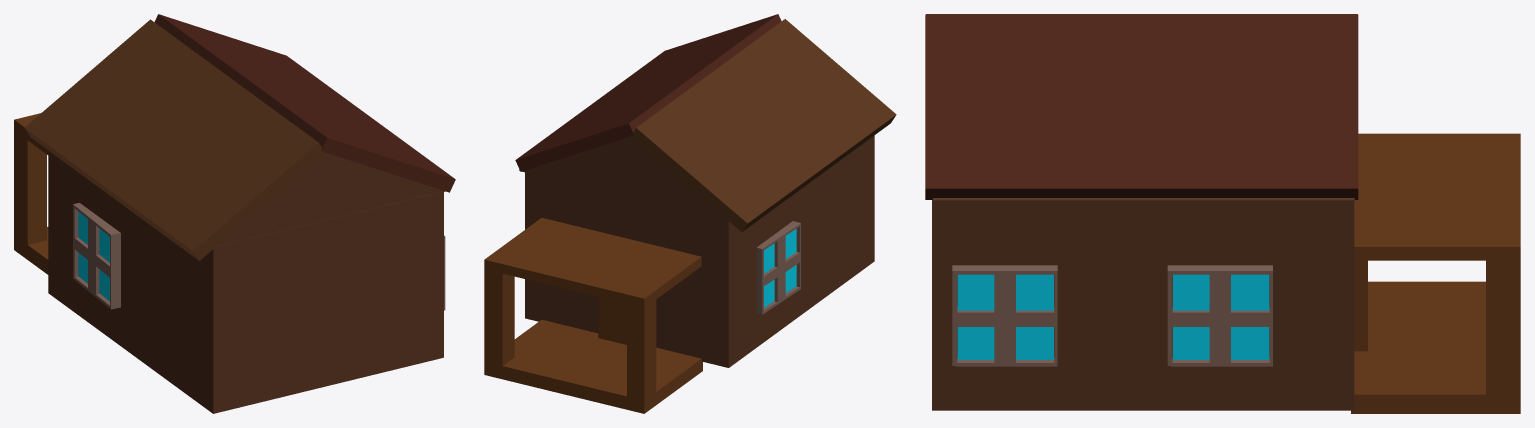
Rendered from casa  tipo 3 remasterizada.fbx.
3 renders of one model, left to right at view 1: azimuth 30°, elevation 25°; view 2: azimuth 150°, elevation 25°; view 3: azimuth 270°, elevation 25°, orthographic. The views are drawn at different scales.
Visible parts, largest first — view 1: Cube, Cube.002, Cube.001, Cube.003, Cube.008, Cube.009; view 2: Cube, Cube.002, Cube.003, Cube.001, Cube.008, Cube.009; view 3: Cube.001, Cube, Cube.003, Cube.006, Cube.005, Cube.004, Cube.007.
Part boxes in pixels (x1,y1,x2,y2): Cube: (48,151,445,413); Cube.002: (24,19,325,260); Cube.001: (154,14,455,192); Cube.003: (14,113,48,274); Cube.008: (73,203,120,309); Cube.009: (78,211,109,301); Cube: (519,135,874,367); Cube.002: (630,19,896,231); Cube.003: (484,217,702,413); Cube.001: (515,14,781,171); Cube.008: (756,221,800,314); Cube.009: (764,229,796,307); Cube.001: (925,14,1358,199); Cube: (932,198,1354,410); Cube.003: (1351,133,1520,413); Cube.006: (952,265,1057,366); Cube.005: (1167,265,1272,366); Cube.004: (1173,274,1269,359); Cube.007: (957,274,1053,359).
Size of the model in its own units: 575 by 550 by 881.
